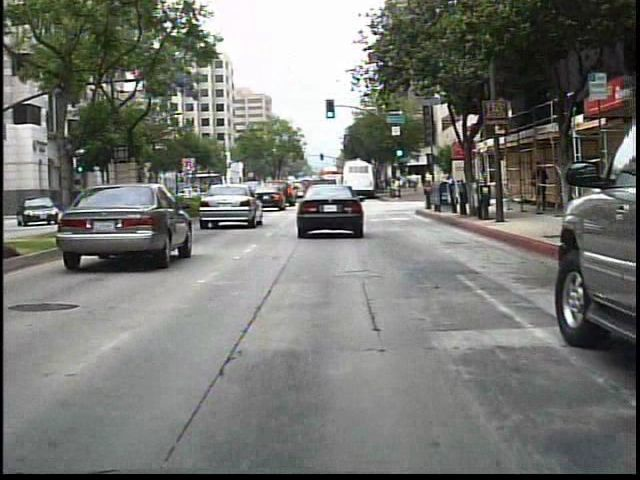person: (528, 155, 547, 218)
